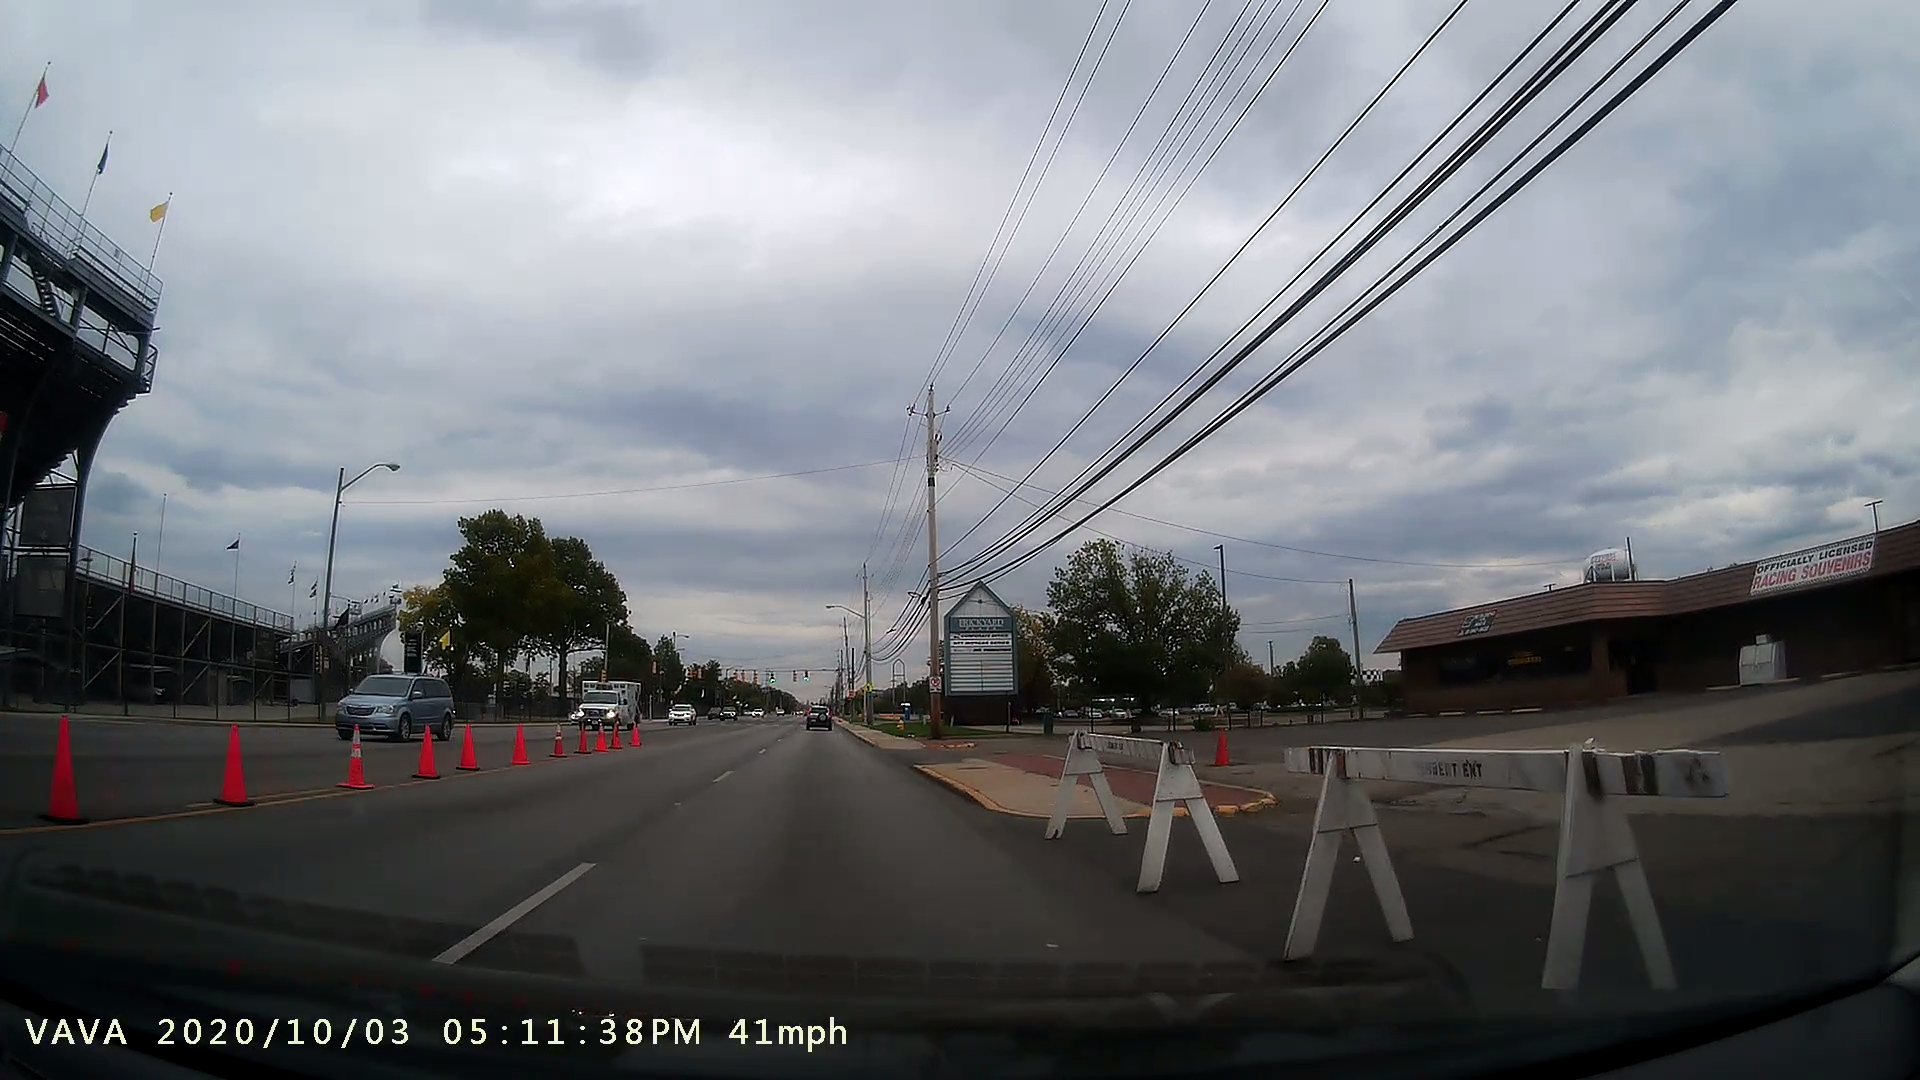const_barricade: (1237, 735, 1753, 992), (1023, 713, 1236, 890)
const_cone: (33, 696, 104, 829), (206, 712, 262, 812), (320, 705, 378, 796), (400, 713, 442, 786)
